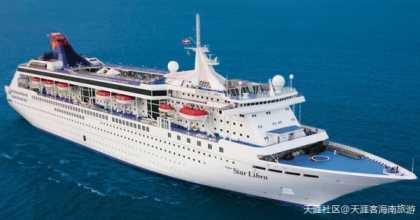youlun: (5, 14, 418, 207)
